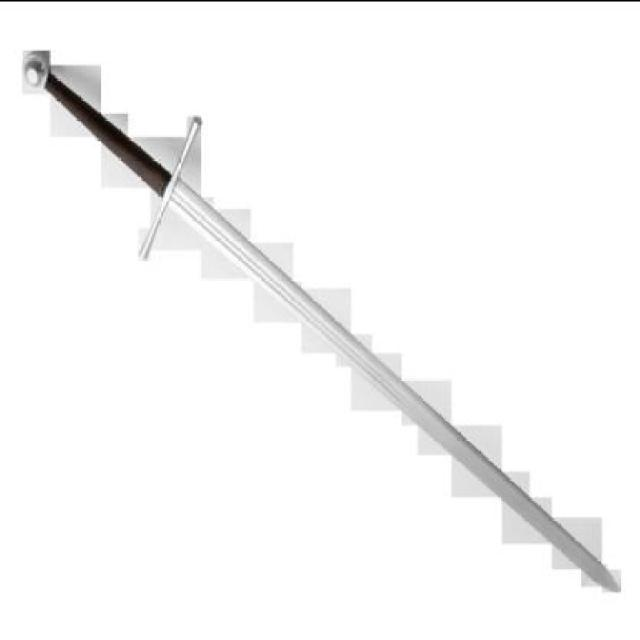weapon: (22, 48, 620, 592)
